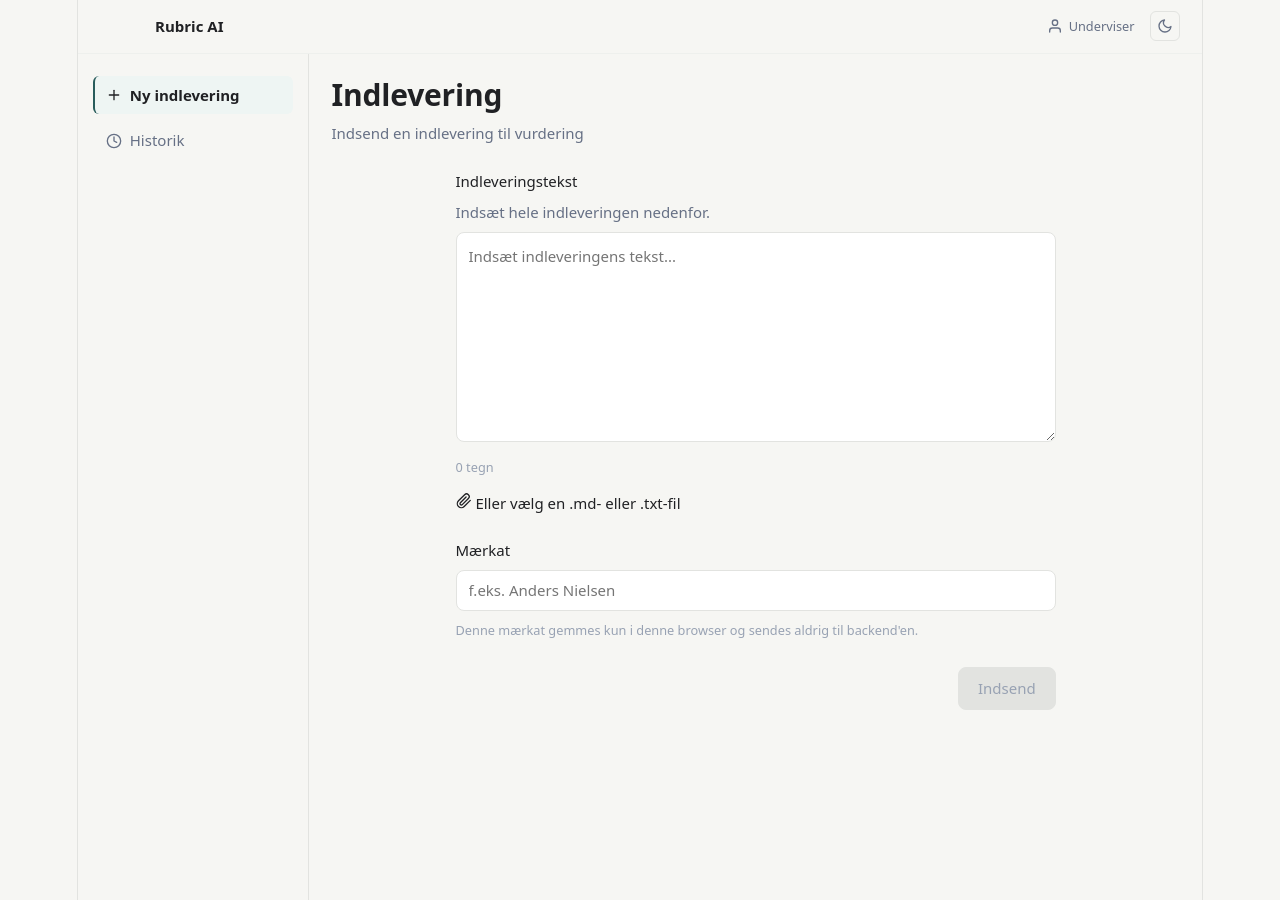
Test: Upload flow › shows a live character count that updates as the submission text changes
Expected: the text "0 tegn" is shown, [456,458,494,476]
Type "Hej" into the text box labelled "Indleveringstekst" at (756, 337), box [456,232,1056,442]
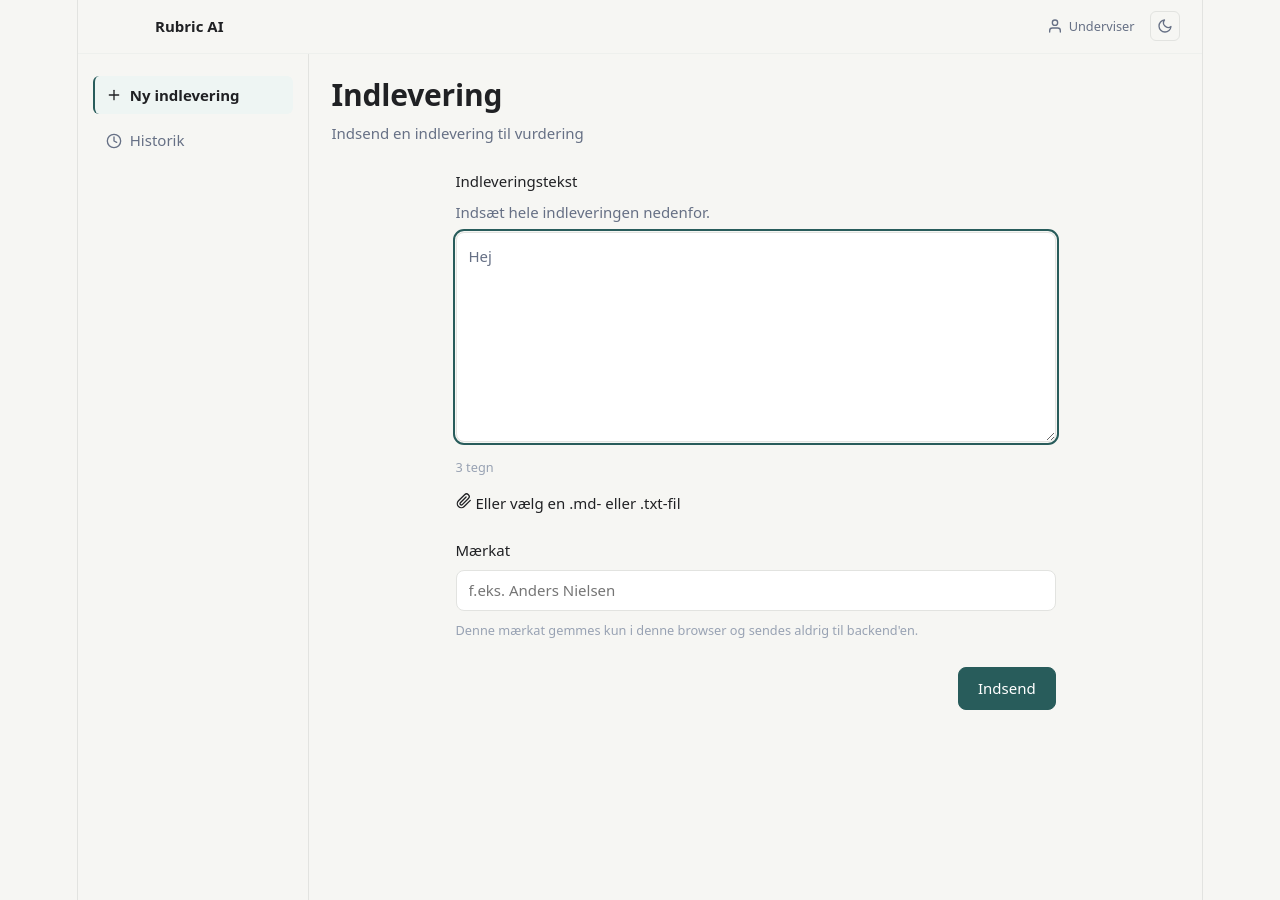
Expected: the text "3 tegn" is shown, [456,458,494,476]
